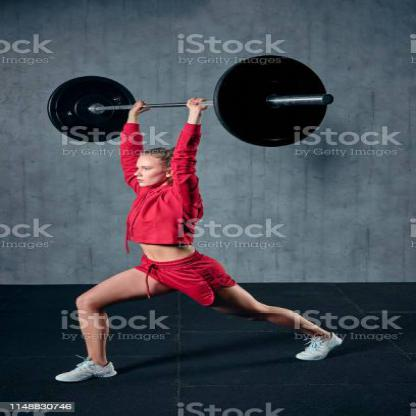Barbell: (206, 48, 332, 153)
